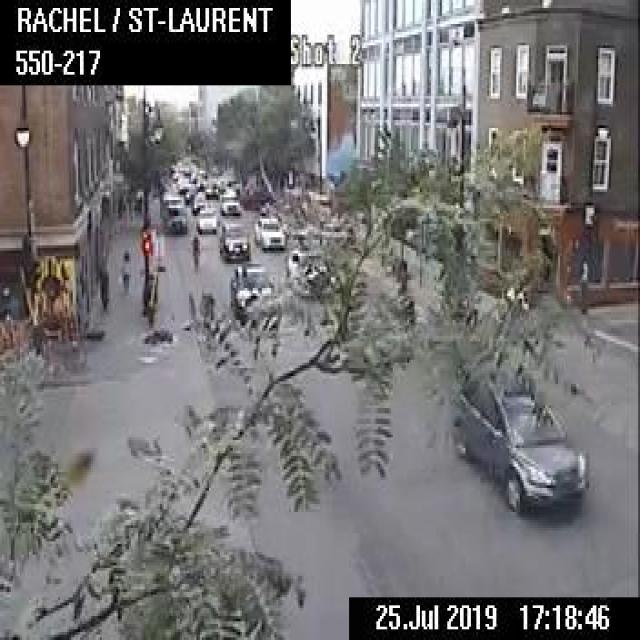pedestrian: (118, 243, 129, 296), (187, 232, 198, 272)
vehicle: (449, 365, 586, 515), (229, 262, 280, 326), (285, 248, 345, 294), (218, 221, 249, 258), (159, 193, 186, 231), (253, 216, 284, 246), (195, 208, 215, 230), (218, 191, 240, 211), (192, 190, 207, 213), (204, 179, 217, 195)
